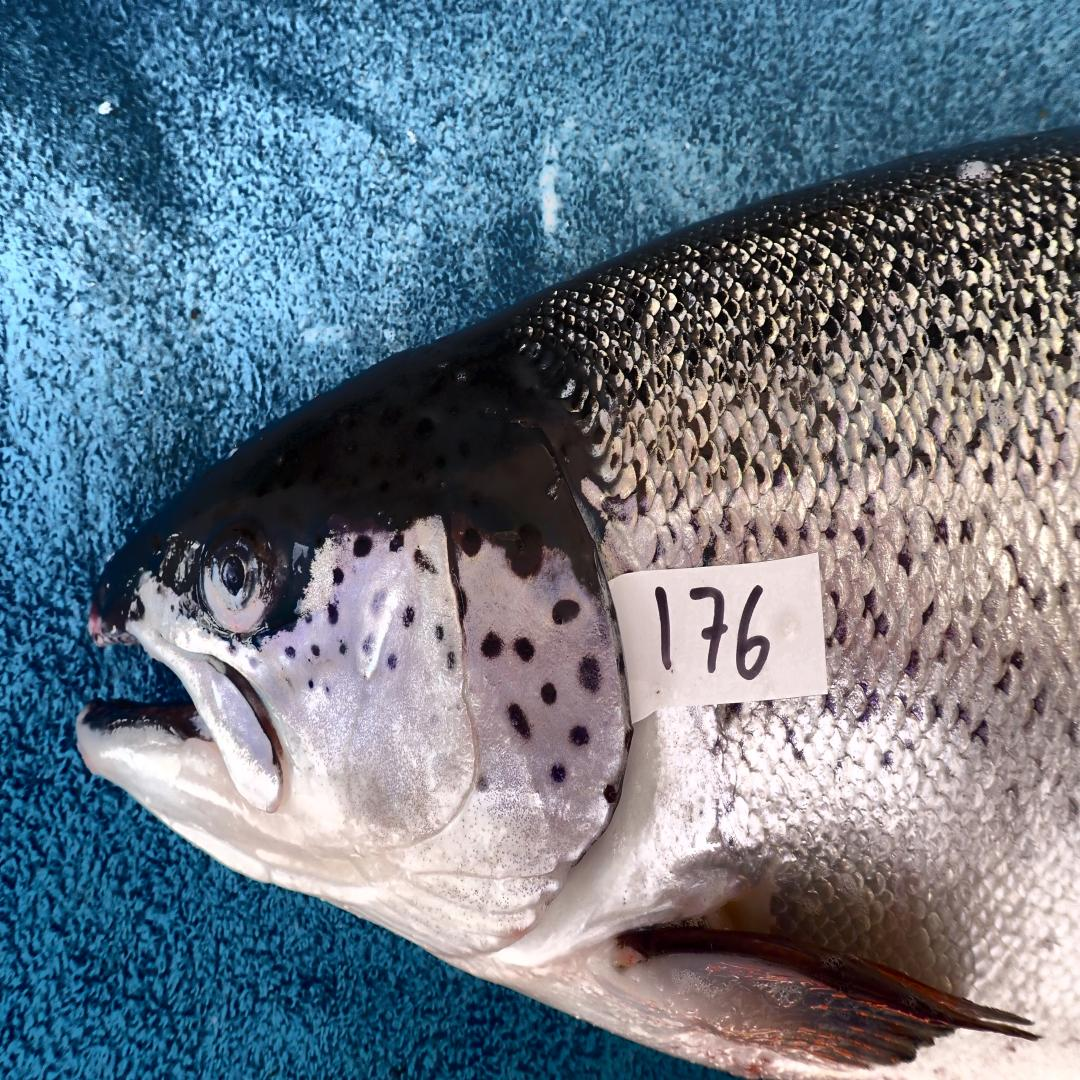spot: (506, 524, 544, 578), (578, 655, 602, 693), (507, 702, 530, 739), (552, 599, 580, 625), (460, 527, 482, 557), (480, 630, 502, 659), (413, 547, 437, 573), (514, 637, 535, 662), (353, 535, 372, 557), (570, 725, 589, 746), (540, 682, 557, 705), (372, 590, 386, 617), (362, 632, 376, 657), (603, 784, 619, 804), (551, 764, 566, 783), (403, 606, 415, 627), (327, 603, 338, 624), (390, 534, 403, 551), (333, 567, 344, 585), (477, 775, 488, 790), (387, 653, 397, 669), (447, 651, 455, 669), (436, 625, 444, 641), (285, 646, 295, 658), (311, 644, 320, 657), (339, 641, 347, 655), (303, 614, 312, 623), (308, 679, 313, 689)
